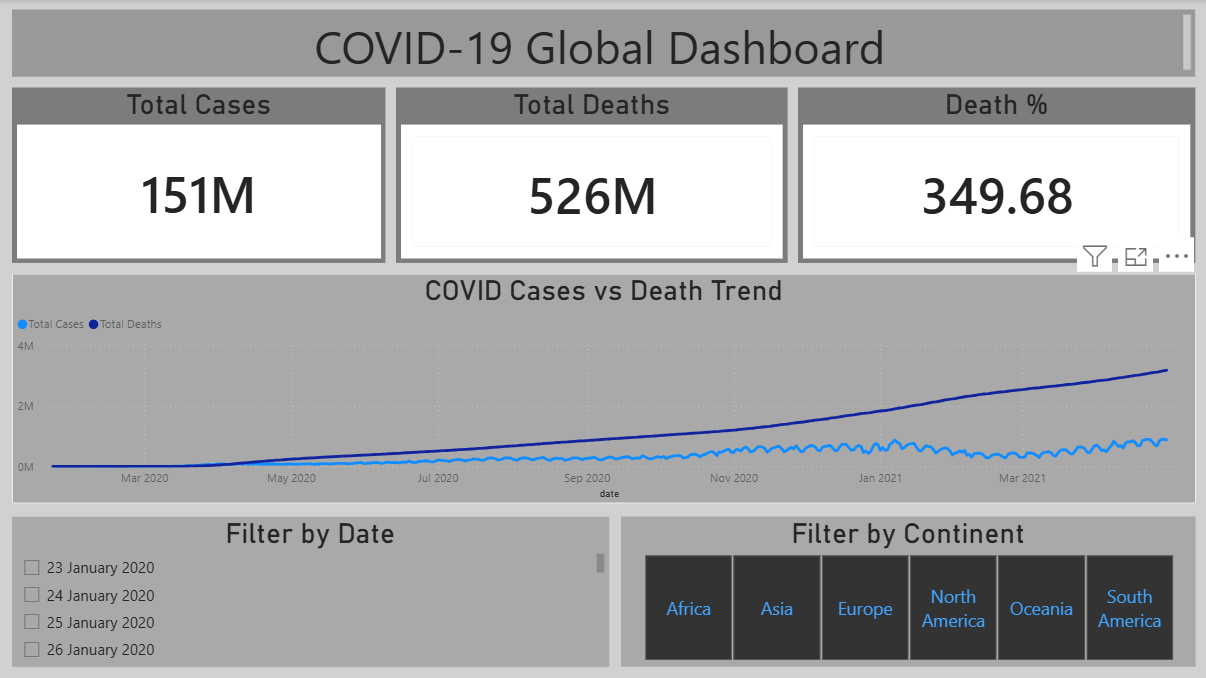

What the dashboard file says about the page in this screenshot:
{"tool":"powerbi","page":{"name":"Overview","canvas":[1280,720],"ordinal":0},"visuals":[{"type":"cardVisual","title":"Total Deaths","fields":{"Data":["CovidDeaths_Clean.Total Deaths"]},"box":[419.9,93.8,415.1,186.1],"z":0},{"type":"cardVisual","title":"Death %","fields":{"Data":["CovidDeaths_Clean.Death %"]},"box":[846.2,93.8,421.5,186.1],"z":1000},{"type":"cardVisual","title":"Total Cases","fields":{"Data":["CovidDeaths_Clean.Total Cases"]},"box":[12.7,93.8,396.1,186.1],"z":2000},{"type":"lineChart","title":"COVID Cases vs Death Trend","fields":{"Category":["CovidDeaths_Clean.date"],"Y":["CovidDeaths_Clean.Total Cases","CovidDeaths_Clean.Total Deaths"]},"box":[12.7,291.1,1255,243.4],"z":3000},{"type":"slicer","title":"Filter by Continent","fields":{"Values":["CovidDeaths_Clean.continent"]},"box":[658.5,548.8,609.2,159.1],"z":4000},{"type":"slicer","title":"Filter by Date","fields":{"Values":["CovidDeaths_Clean.date"]},"box":[12.7,548.8,633.1,159.1],"z":5000},{"type":"textbox","box":[12.7,11.1,1255,71.6],"z":6000}]}

Visuals, with their boxes in screenshot pixels (x1, y1, x2, y2), scaled from the page's 1280x720 canvas onto the 1206x678 screenshot:
"Total Deaths" cardVisual: locate(396, 88, 787, 264)
"Death %" cardVisual: locate(797, 88, 1194, 264)
"Total Cases" cardVisual: locate(12, 88, 385, 264)
"COVID Cases vs Death Trend" lineChart: locate(12, 274, 1194, 503)
"Filter by Continent" slicer: locate(620, 517, 1194, 667)
"Filter by Date" slicer: locate(12, 517, 608, 667)
textbox: locate(12, 10, 1194, 78)
